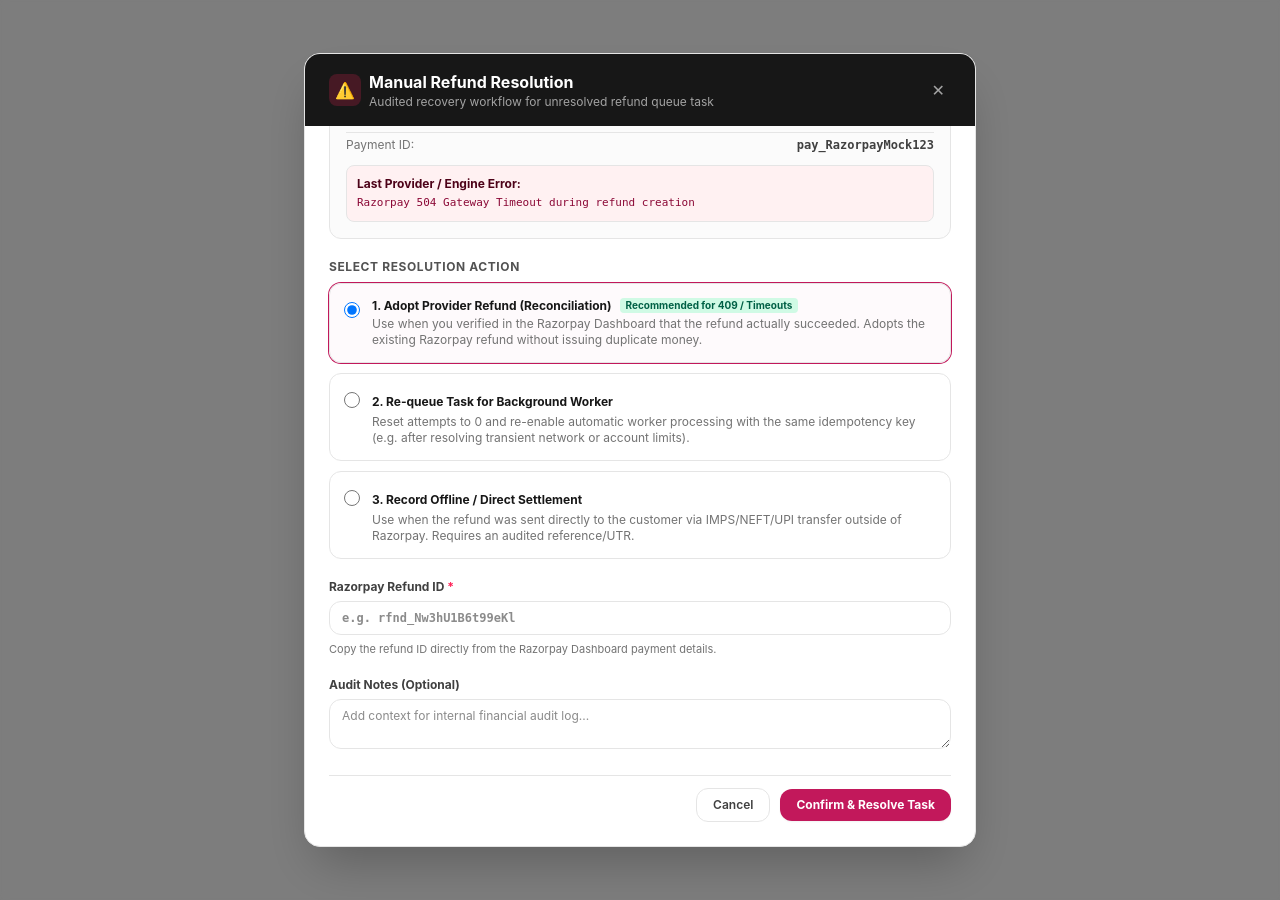
Test: RefundManualReviewModal (Financial Recovery & Invariants) › shows error when admin session is expired
The image size is (1280, 900).
(page scrolled)
Click the button "Confirm & Resolve Task": point(866, 805) 780,789 -> 951,821
(page scrolled)
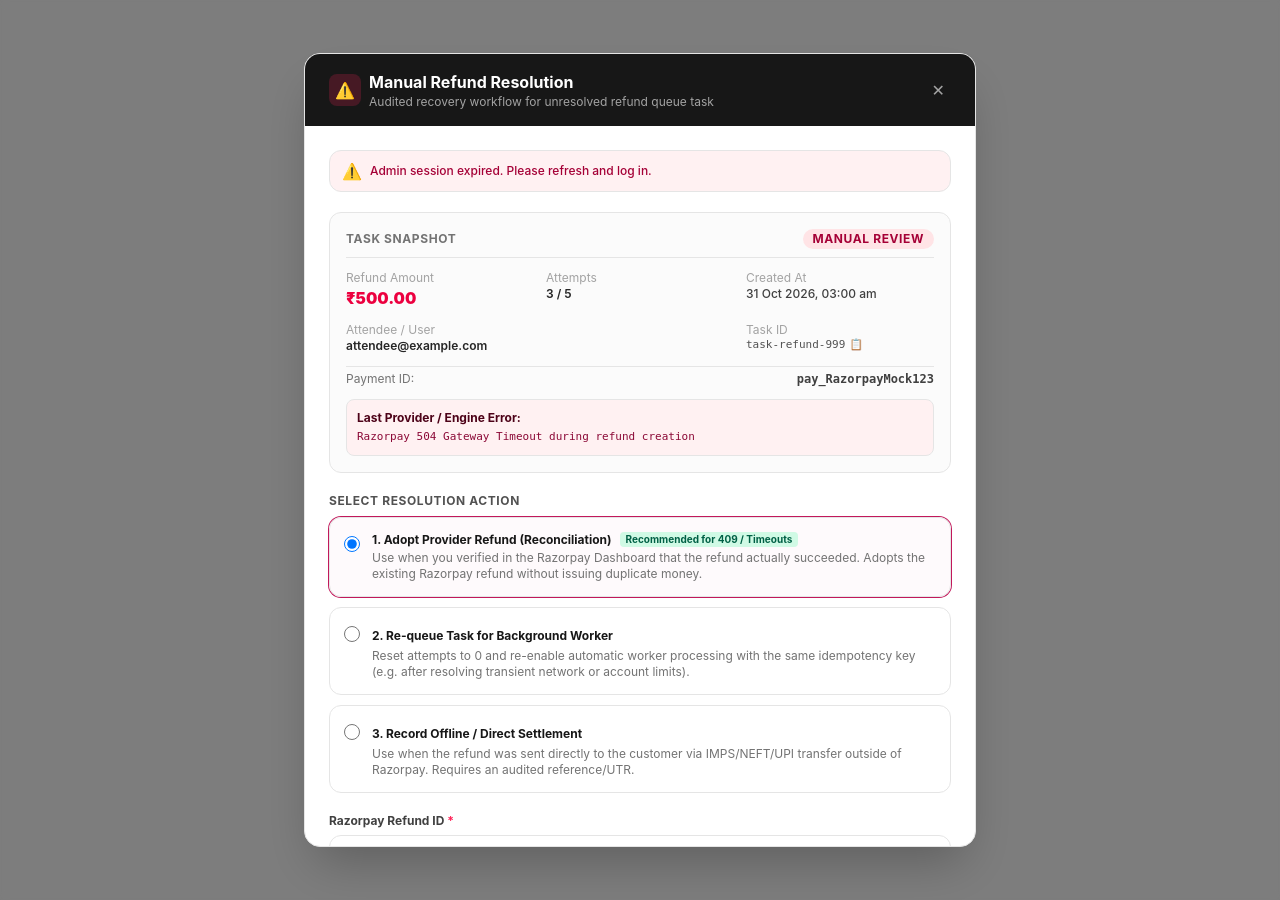
expect the text "Admin session expired. Please refresh and log in." is shown: met, box 370,163 -> 652,178
